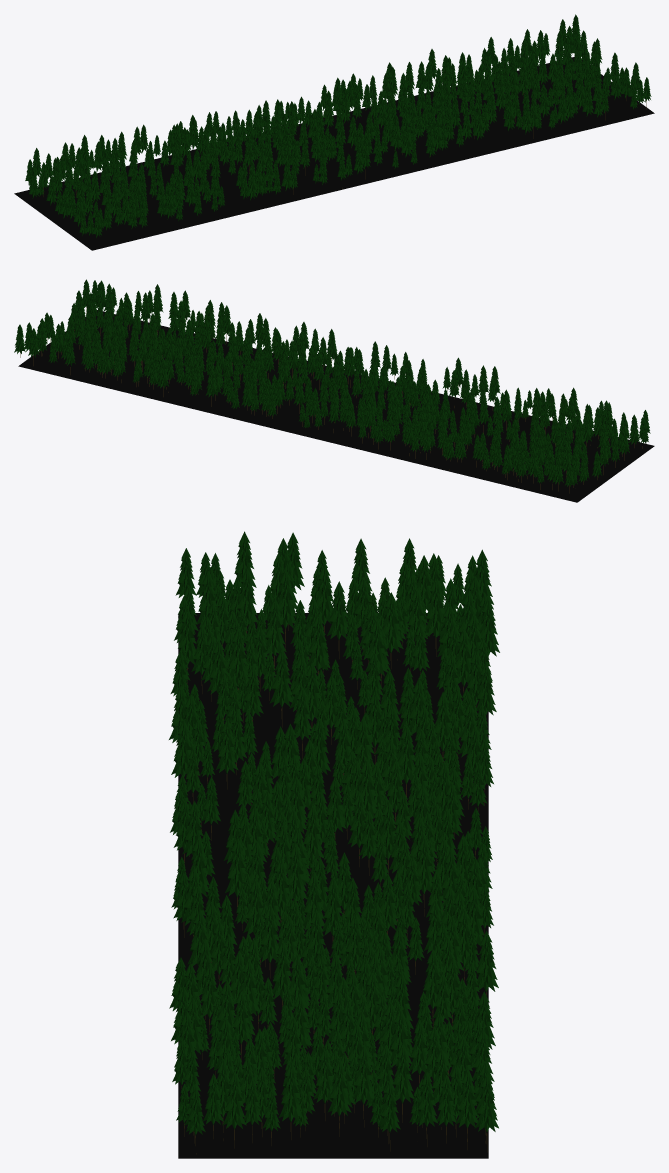
The model's file is GGJ_GameLevel tRee.fbx.
3 views of the same model, one above another, from view 1: azimuth 30°, elevation 25°; view 2: azimuth 150°, elevation 25°; view 3: azimuth 270°, elevation 25° (orthographic). The views are drawn at different scales.
Visible parts, largest first — view 1: Plane; view 2: Plane; view 3: Plane, Plane|Trunk|Dupli|409.
Part boxes in pixels (box(x1,y1,x2,y2)): Plane: box(14, 57, 654, 250); Plane: box(18, 310, 654, 502); Plane: box(178, 613, 488, 1158); Plane|Trunk|Dupli|409: box(278, 1061, 303, 1139).
Size of the model in its own units: 843 by 62.46 by 214.
